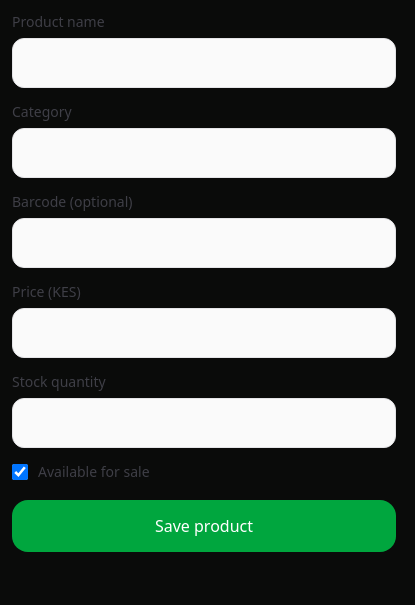
Test case: ProductForm › shows a validation error and does not submit when name is empty
Type "100" into the field labelled "Price (KES)" at (204, 333), box [12,308,396,358]
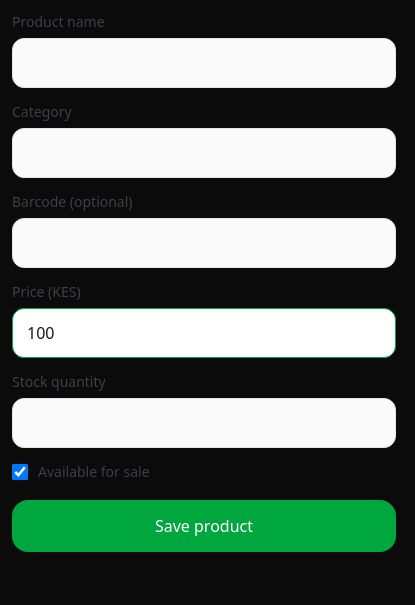
Type "5" into the field labelled "Stock quantity" at (204, 423), box [12,398,396,448]
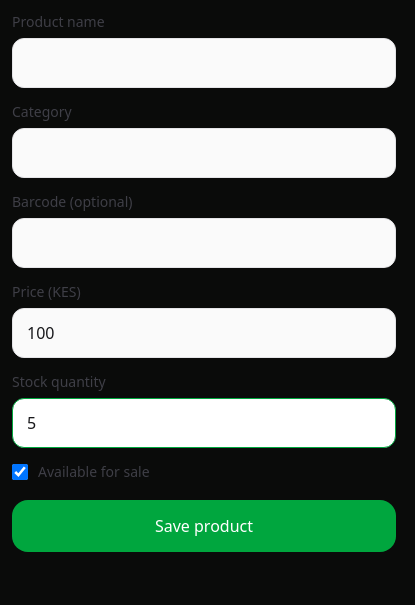
Click the button "Save product" at (204, 526), box [12,500,396,552]
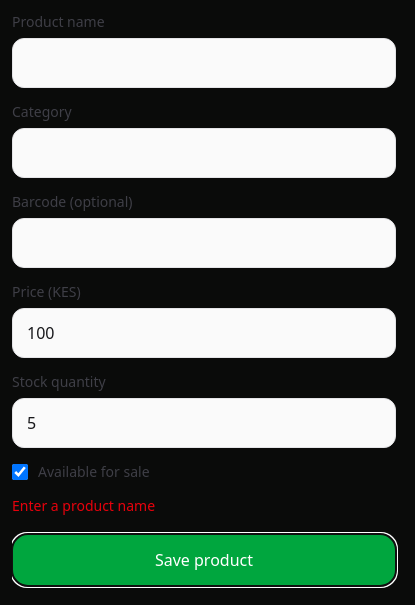
Result: the message reads "Enter a product name" at [12,496,155,515]
